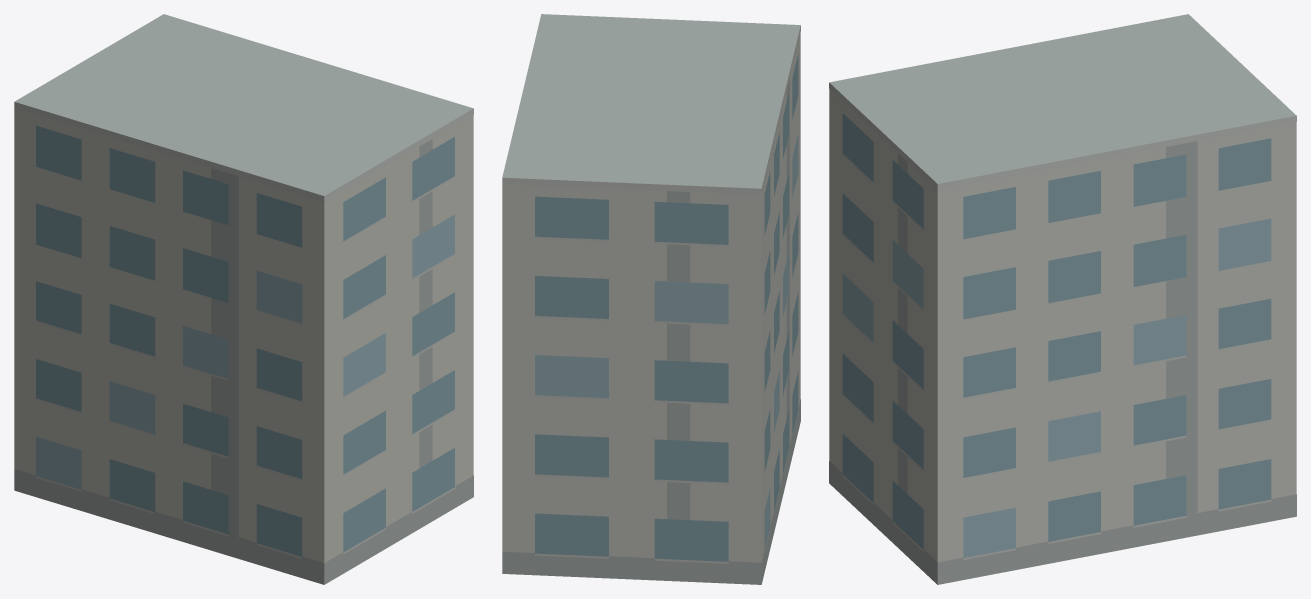
The model's file is residential-d3b0a744-9b88-4cc2-a78e-a4458084d89c.glb.
3 renders of one model, left to right at view 1: azimuth 30°, elevation 25°; view 2: azimuth 150°, elevation 25°; view 3: azimuth 270°, elevation 25°, orthographic. The views are drawn at different scales.
Visible parts, largest first — view 1: residential-d3b0a744-9b88-4cc2-a78e-a4458084d89c.tmp; view 2: residential-d3b0a744-9b88-4cc2-a78e-a4458084d89c.tmp; view 3: residential-d3b0a744-9b88-4cc2-a78e-a4458084d89c.tmp.
Boxes of the visible parts, x1,y1,x2,y2 form: residential-d3b0a744-9b88-4cc2-a78e-a4458084d89c.tmp: (14, 14, 473, 584); residential-d3b0a744-9b88-4cc2-a78e-a4458084d89c.tmp: (502, 14, 800, 584); residential-d3b0a744-9b88-4cc2-a78e-a4458084d89c.tmp: (829, 14, 1296, 584).
Size of the model in its own units: 13.88 by 15.25 by 16.13.
